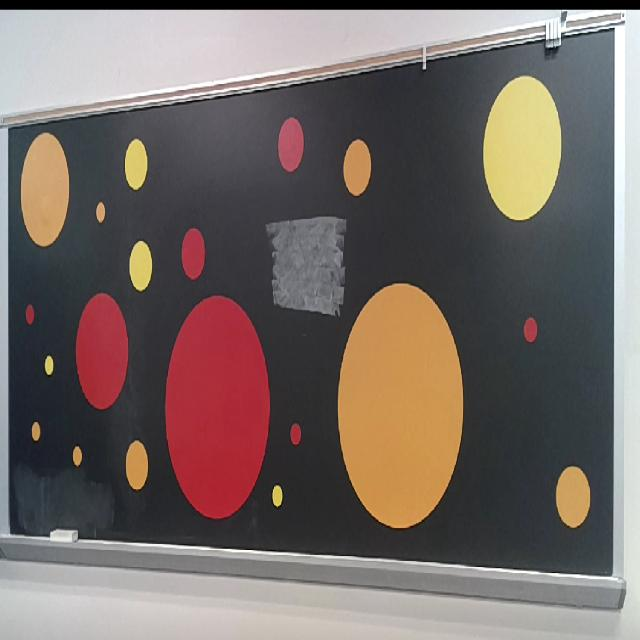Orange: (336, 282, 464, 528), (20, 132, 70, 248), (556, 466, 590, 527), (344, 140, 372, 196), (126, 440, 148, 490), (96, 202, 106, 224), (72, 446, 82, 466), (32, 422, 40, 441)
Red: (164, 294, 270, 520), (75, 293, 128, 410), (278, 117, 304, 171), (182, 228, 206, 280), (524, 317, 538, 343), (290, 423, 302, 445), (26, 304, 34, 324)
Yellow: (483, 76, 562, 220), (125, 138, 148, 190), (130, 240, 152, 292), (272, 485, 283, 507), (44, 356, 54, 375)
